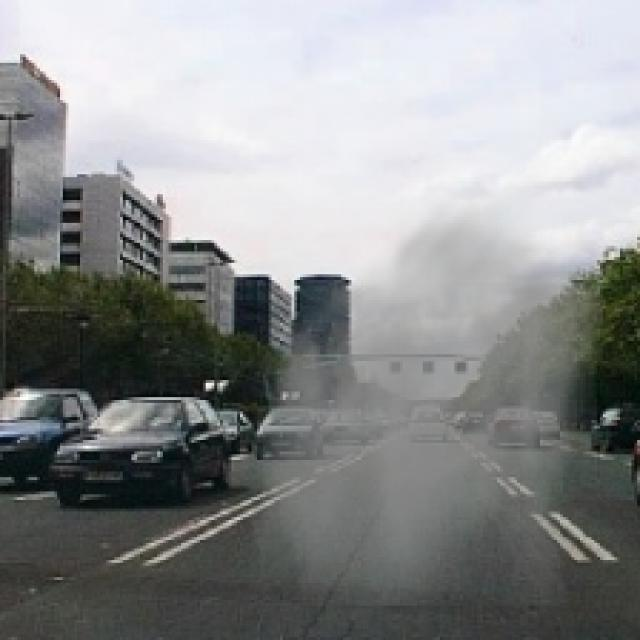smoke: (251, 188, 603, 606)
